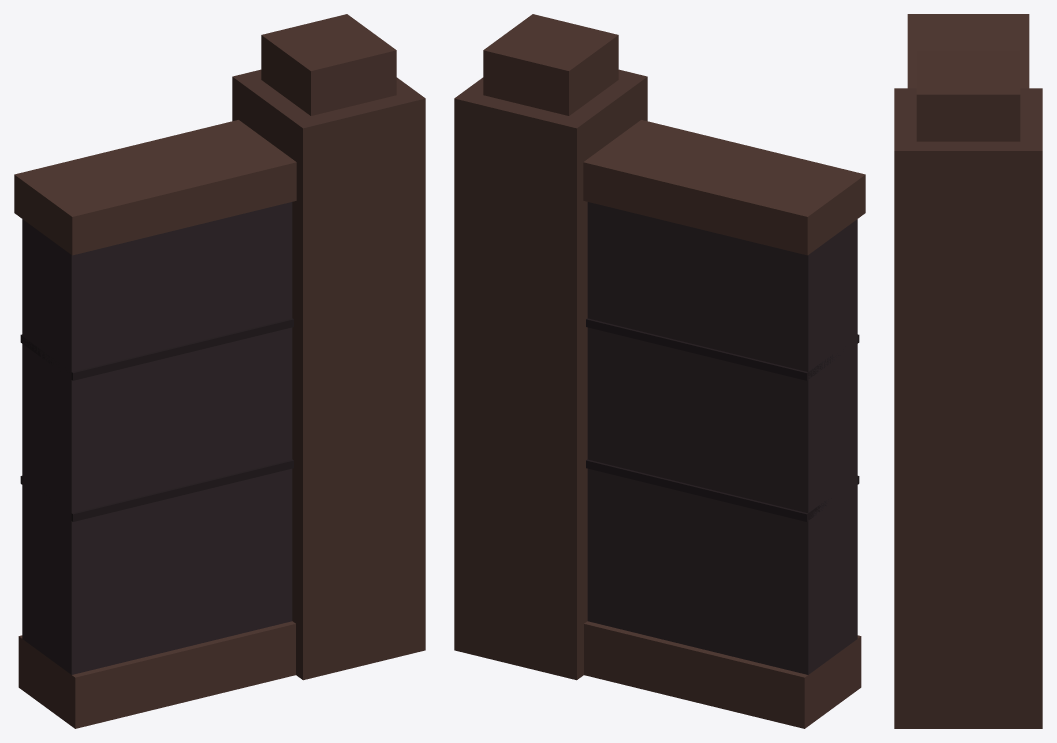
File: wall_end_2m.glb
The picture shows the model from 3 angles, left to right: view 1: azimuth 30°, elevation 25°; view 2: azimuth 150°, elevation 25°; view 3: azimuth 270°, elevation 25°; orthographic projection. The views are drawn at different scales.
Visible parts, largest first — view 1: wall_end_2m; view 2: wall_end_2m; view 3: wall_end_2m.
Part boxes in pixels (x1,y1,x2,y2): wall_end_2m: (14, 14, 425, 728); wall_end_2m: (454, 14, 865, 728); wall_end_2m: (894, 14, 1042, 728).
Size of the model in its own units: 2.83 by 4.65 by 1.
